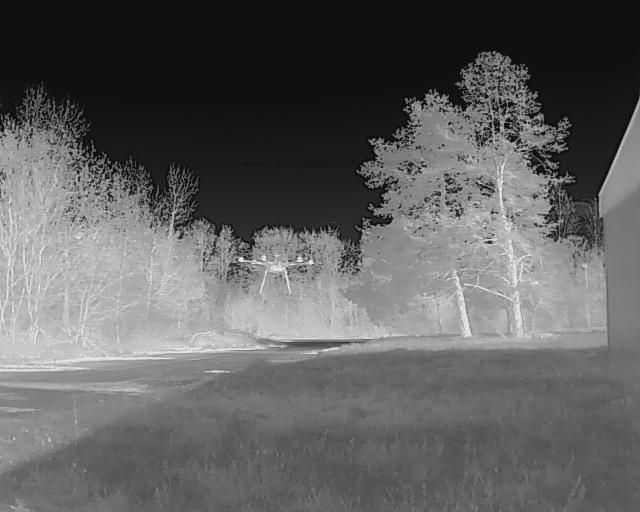drone: (227, 248, 317, 302)
